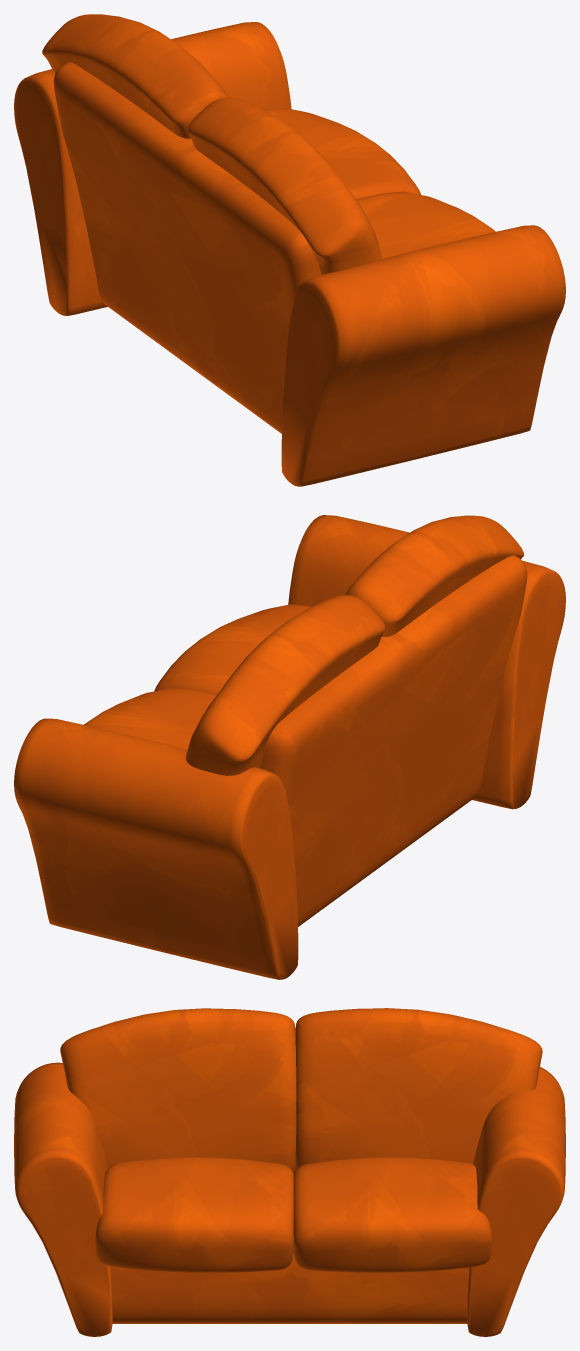
File: obj_sofa_with_generic_textures_5916a7.glb
3 views of the same model, one above another, from view 1: azimuth 30°, elevation 25°; view 2: azimuth 150°, elevation 25°; view 3: azimuth 270°, elevation 25° (orthographic). The views are drawn at different scales.
Parts seen in each view (by area): view 1: obj_sofa_with_generic_textures_5916a7; view 2: obj_sofa_with_generic_textures_5916a7; view 3: obj_sofa_with_generic_textures_5916a7.
Boxes of the visible parts, x1,y1,x2,y2 form: obj_sofa_with_generic_textures_5916a7: (14,14,565,486); obj_sofa_with_generic_textures_5916a7: (14,515,565,979); obj_sofa_with_generic_textures_5916a7: (14,1008,565,1336).
Bounding box in the file's own units: 0.7583 × 0.8093 × 1.6.
Materials: 1 (1 with a texture image).
